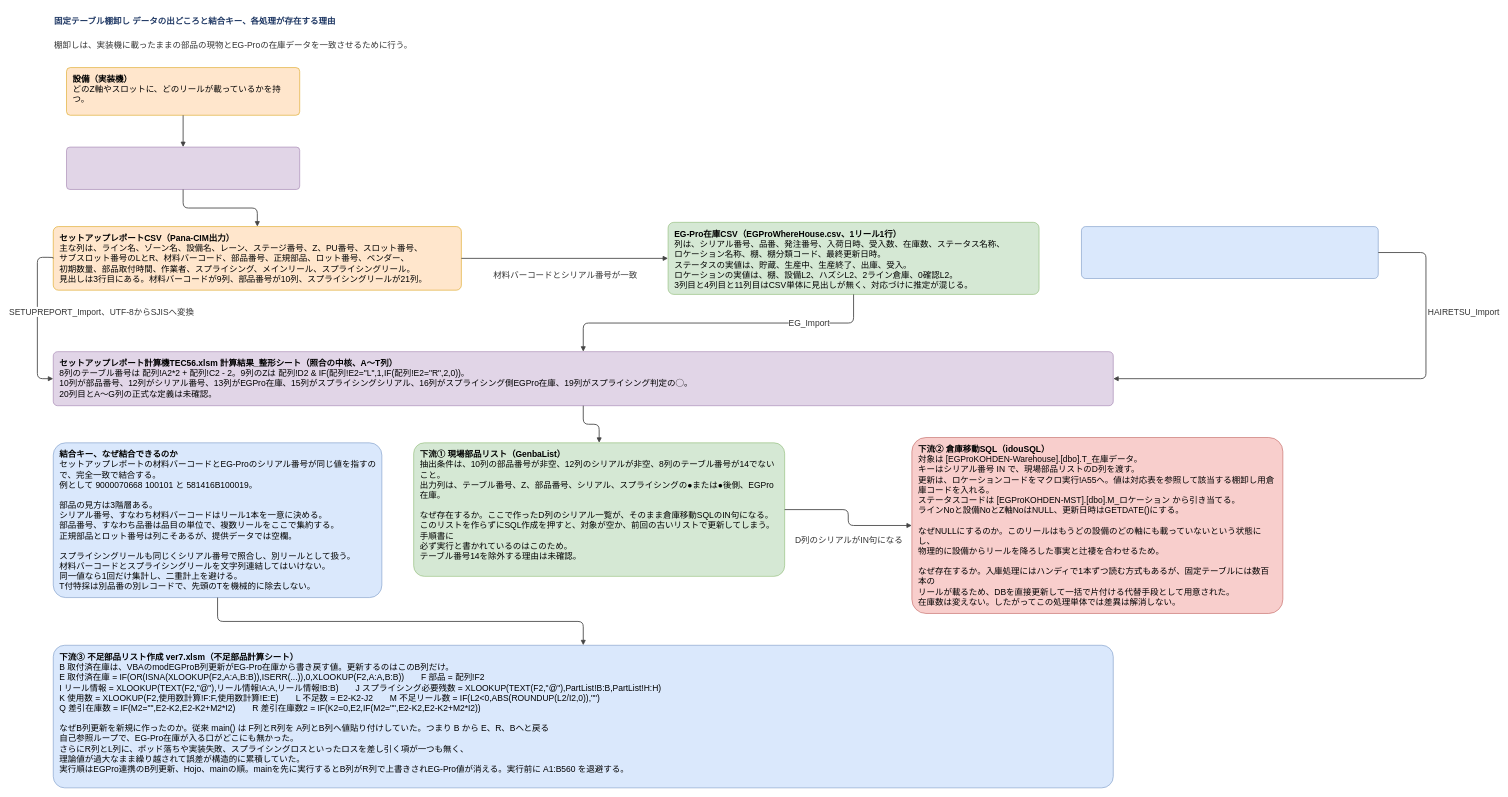
The diagram is 1508 pixels wide and 797 high, and some of its shapes have lost their labels. The shapes that lost their labels are listed below. From the top down, each one's centre as x and y in pixels, then its label:
point (183, 168): Pana-CIM 設備側の生産管理システム。 設備操作から約10分で反映される。
point (1229, 252): 固定テーブル配列データ（★固定マスタ） 固定テーブル上の物理位置を決める元データ。 取込時にフィーダーセットアップの行より上を削除する。
